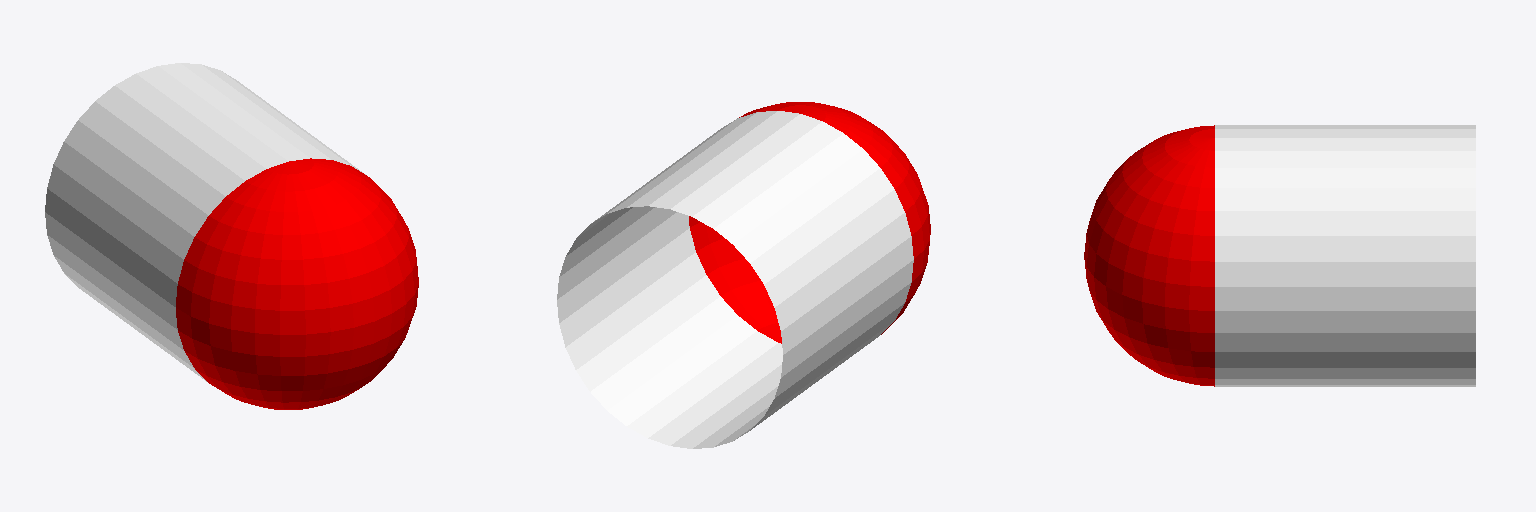
3 renders of one model, left to right at view 1: azimuth 30°, elevation 25°; view 2: azimuth 150°, elevation 25°; view 3: azimuth 270°, elevation 25°, orthographic.
Visible parts, largest first — view 1: 球; view 2: 球; view 3: 球.
Boxes of the visible parts, x1,y1,x2,y2 form: 球: [45, 63, 418, 409]; 球: [557, 102, 930, 448]; 球: [1084, 125, 1475, 386].
Bounding box in the file's own units: 1 × 1 × 1.5.
Materials: 1 (1 with a texture image).